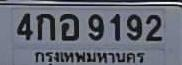1: (111, 14, 120, 41)
2: (145, 14, 162, 41)
4: (17, 13, 32, 40)
9: (126, 14, 143, 41), (88, 13, 104, 40)
A01: (36, 12, 56, 41)
A43: (59, 12, 80, 41)
BKK: (30, 48, 151, 65)
